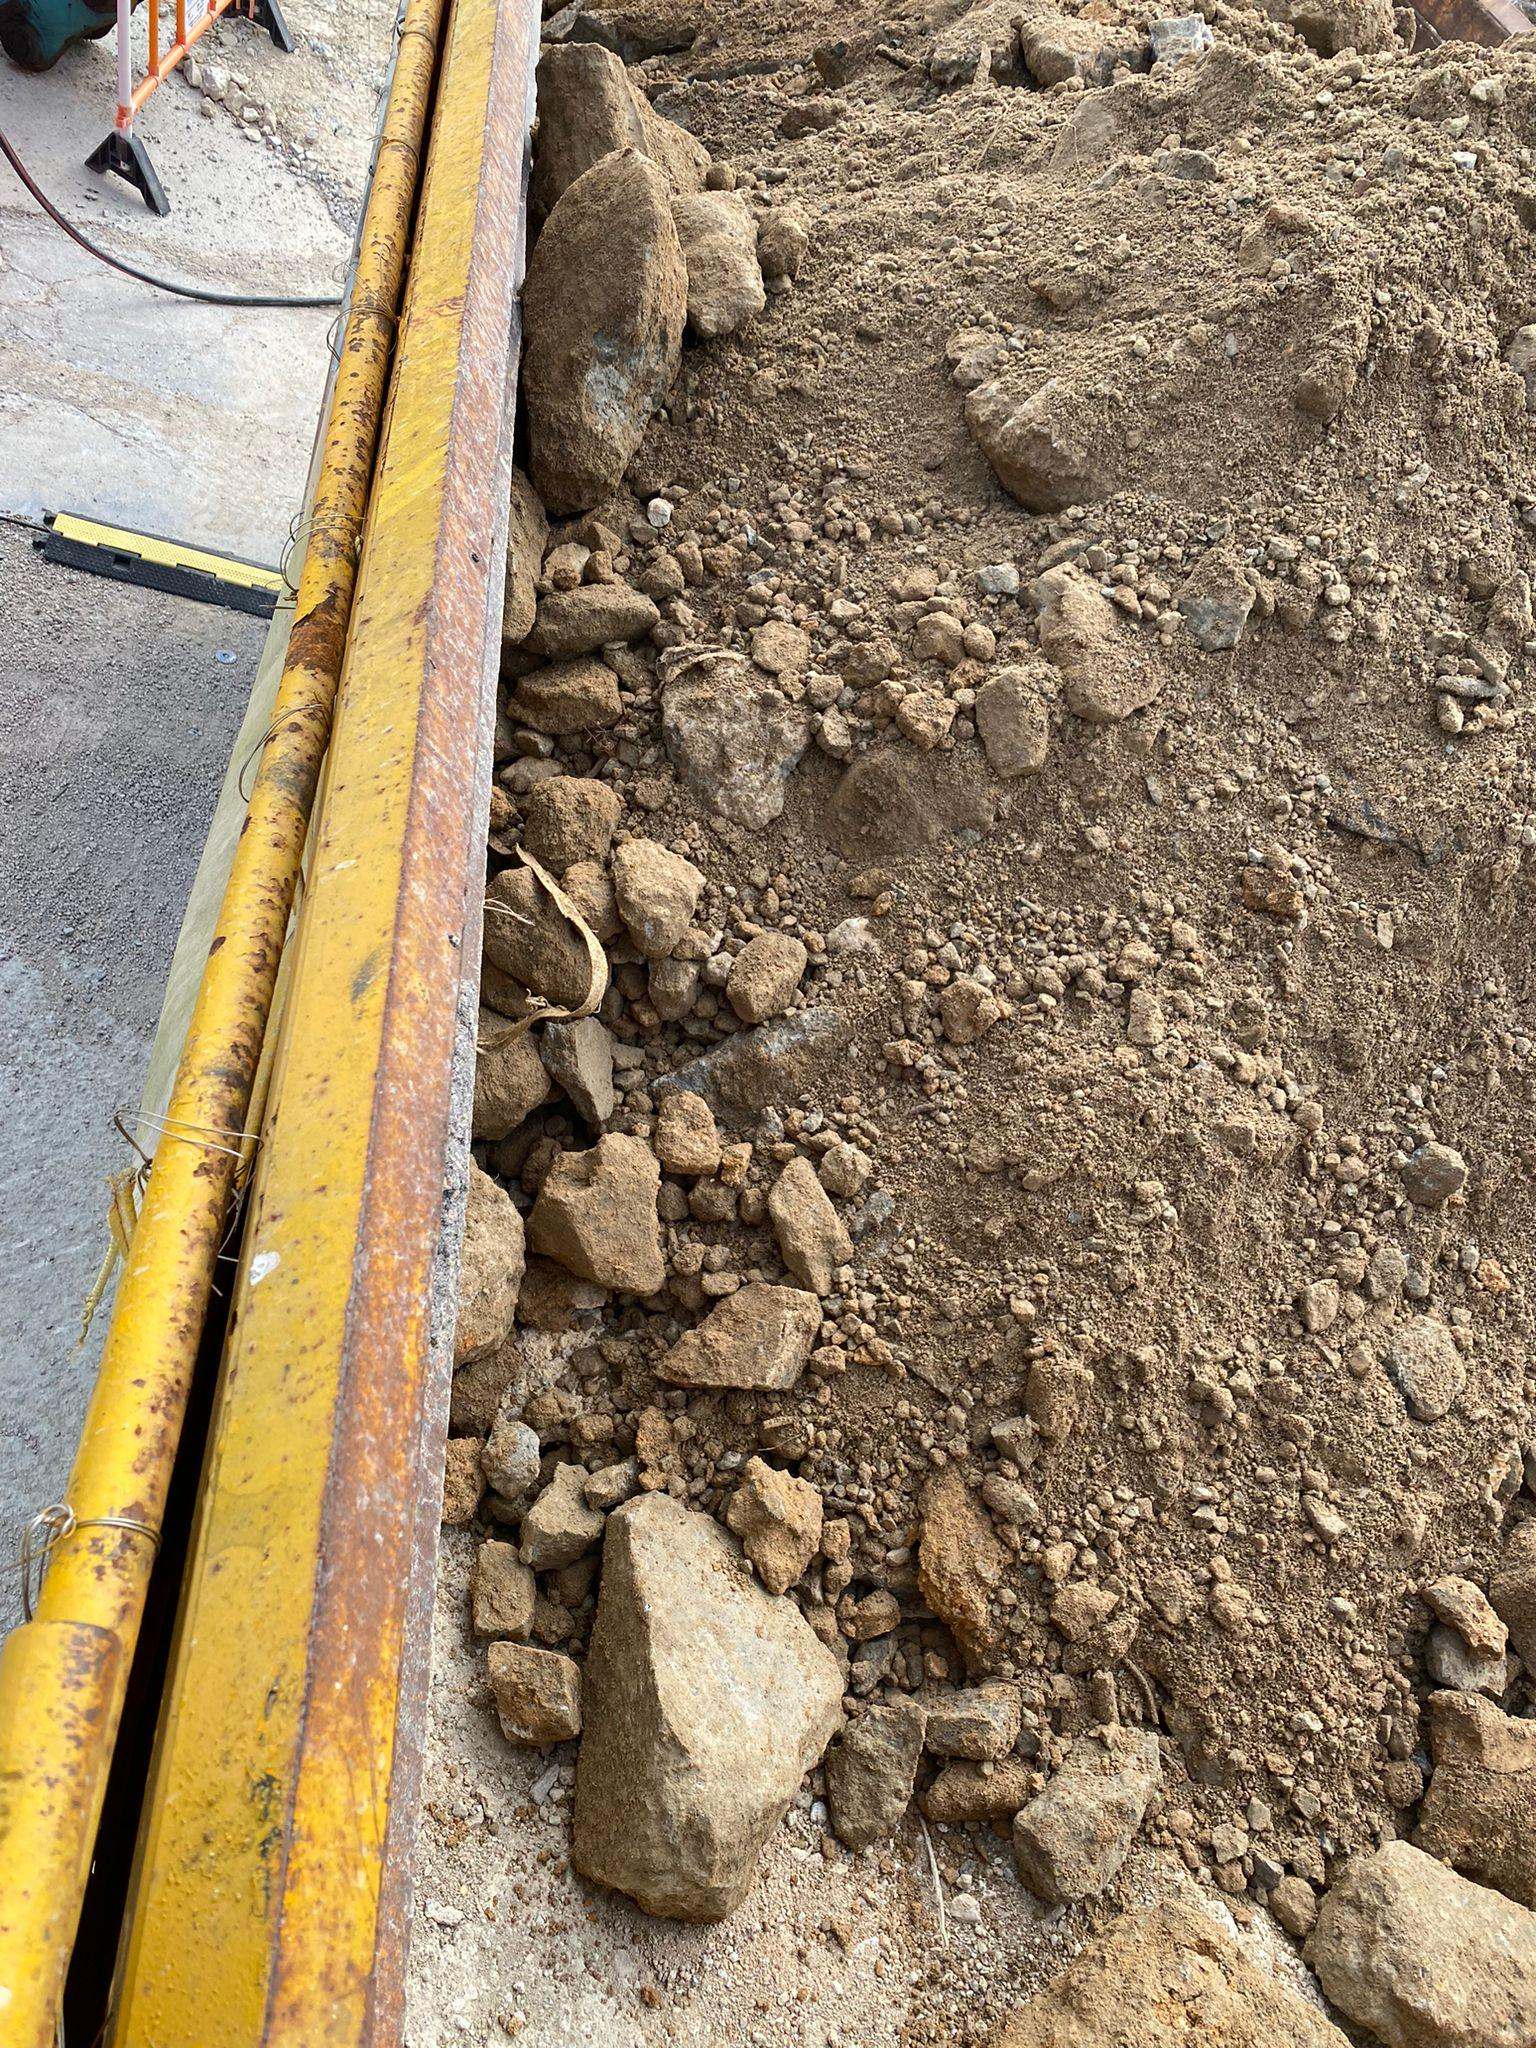dry: (440, 0, 1530, 2027)
